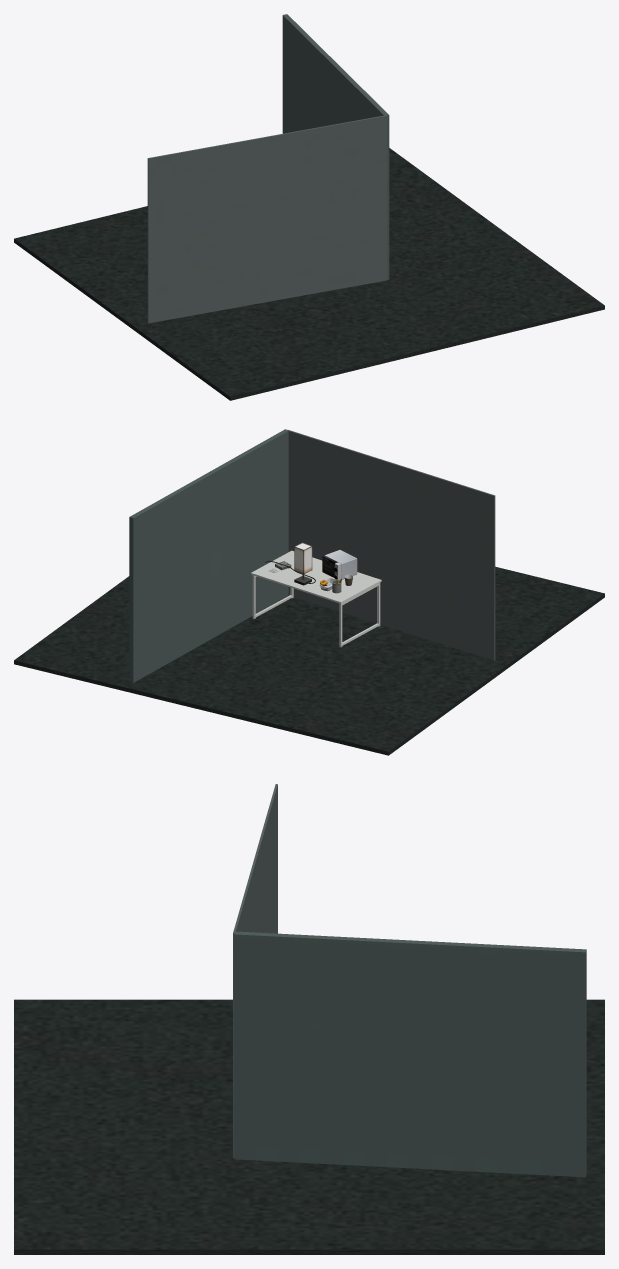
Rendered from ours.glb.
The picture shows the model from 3 angles, top to bottom: view 1: azimuth 30°, elevation 25°; view 2: azimuth 150°, elevation 25°; view 3: azimuth 270°, elevation 25°; orthographic projection. The views are drawn at different scales.
Parts seen in each view (by area): view 1: floor_0, wall_0, wall_1; view 2: floor_0, wall_0, wall_1, table_0, obj_toaster_oven_0, obj_lamp_0; view 3: floor_0, wall_1, wall_0.
Boxes of the visible parts, x1,y1,x2,y2 form: floor_0: (14,148,604,400); wall_0: (147,115,387,323); wall_1: (282,14,389,279); floor_0: (14,566,604,755); wall_0: (287,429,495,660); wall_1: (129,429,288,682); table_0: (251,550,381,647); obj_toaster_oven_0: (322,550,357,580); obj_lamp_0: (294,542,312,585); floor_0: (14,999,604,1254); wall_1: (234,931,586,1177); wall_0: (233,784,277,1157).
Bounding box in the file's own units: 5 × 2.15 × 5.
16 materials, 16 textured.
